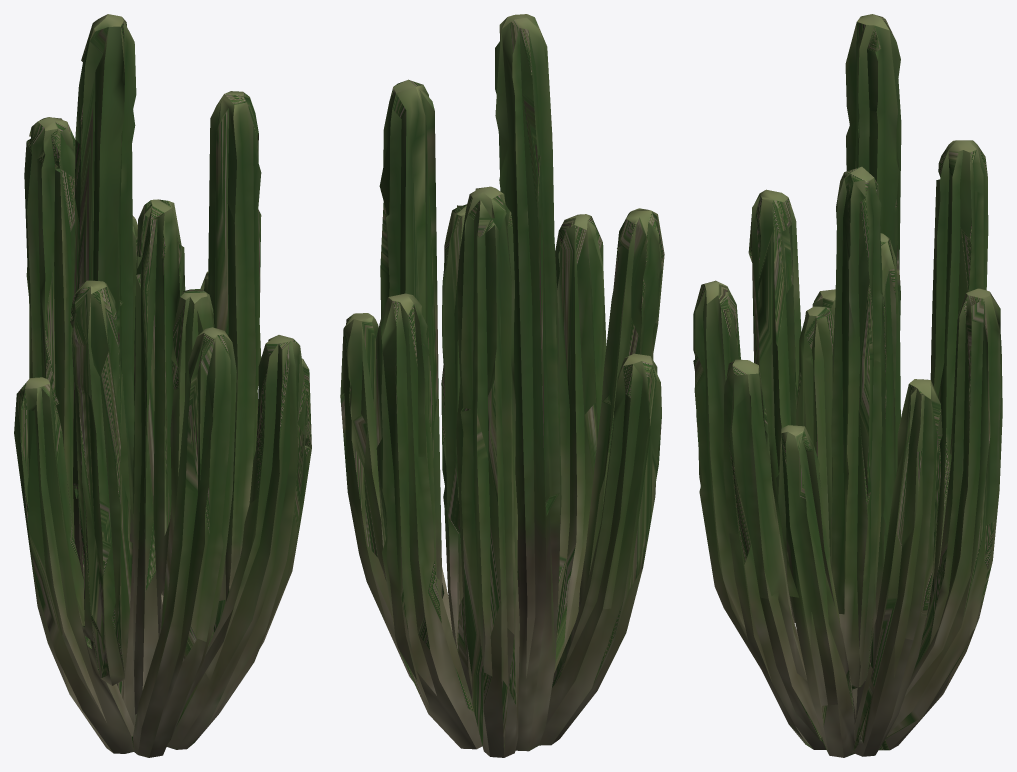
Rendered from organ-pipe-cactus.glb.
3 views of the same model, side by side, from view 1: azimuth 30°, elevation 25°; view 2: azimuth 150°, elevation 25°; view 3: azimuth 270°, elevation 25° (orthographic). The views are drawn at different scales.
Parts seen in each view (by area): view 1: world; view 2: world; view 3: world.
Part boxes in pixels (bbox=[...]): world: bbox=[14, 14, 311, 757]; world: bbox=[340, 14, 664, 757]; world: bbox=[693, 14, 1002, 757].
Size of the model in its own units: 0.4018 by 0.9998 by 0.3964.
Materials: 1 (1 with a texture image).
